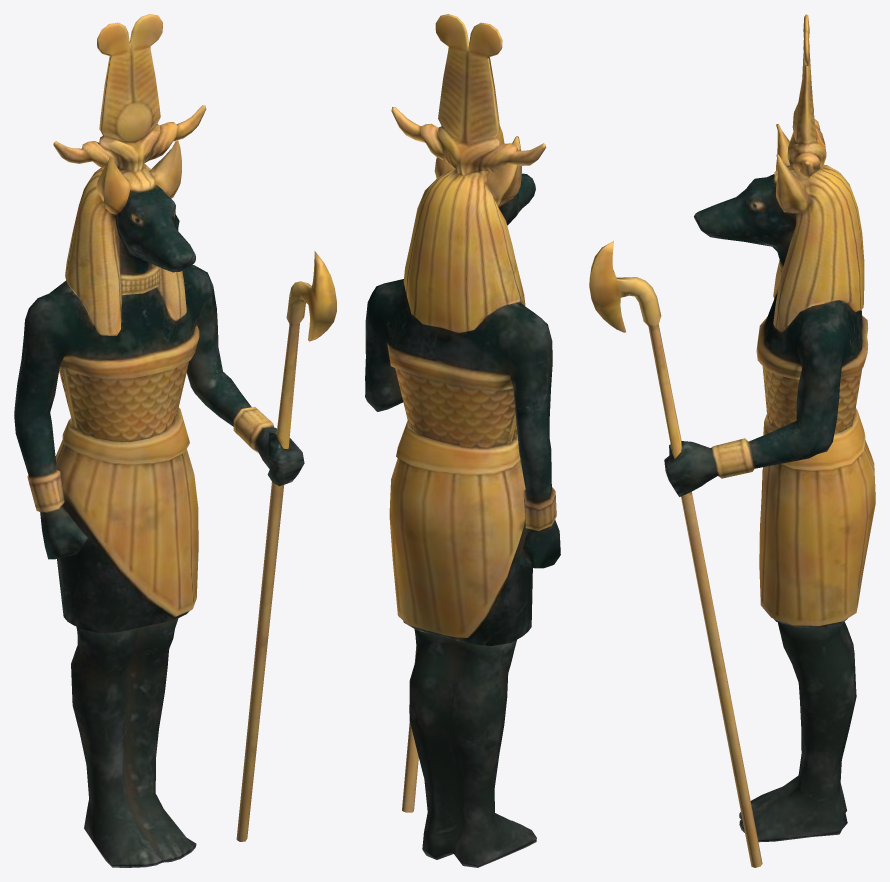
File: 131-monumenttogods-set.glb
3 views of the same model, side by side, from view 1: azimuth 30°, elevation 25°; view 2: azimuth 150°, elevation 25°; view 3: azimuth 270°, elevation 25° (orthographic). The views are drawn at different scales.
Bounding box in the file's own units: 1.87 × 7.34 × 2.38.
Materials: 1 (1 with a texture image).
